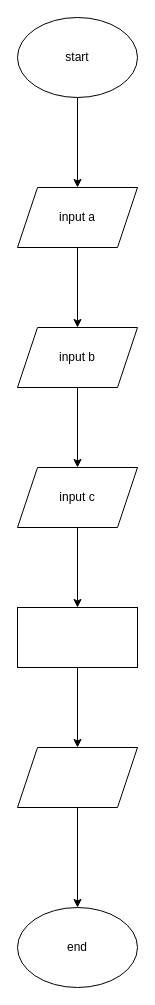
This 155x1005 diagram has some shape labels left out. Each missing label, with the centre of its shape:
a + b + c: the point at 77,637
output ans: the point at 77,777
